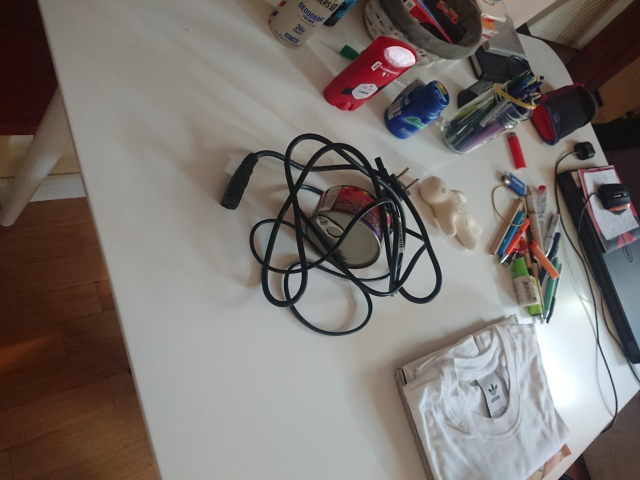Giana Tuna Salad Mexico 185g: (303, 183, 395, 271)
